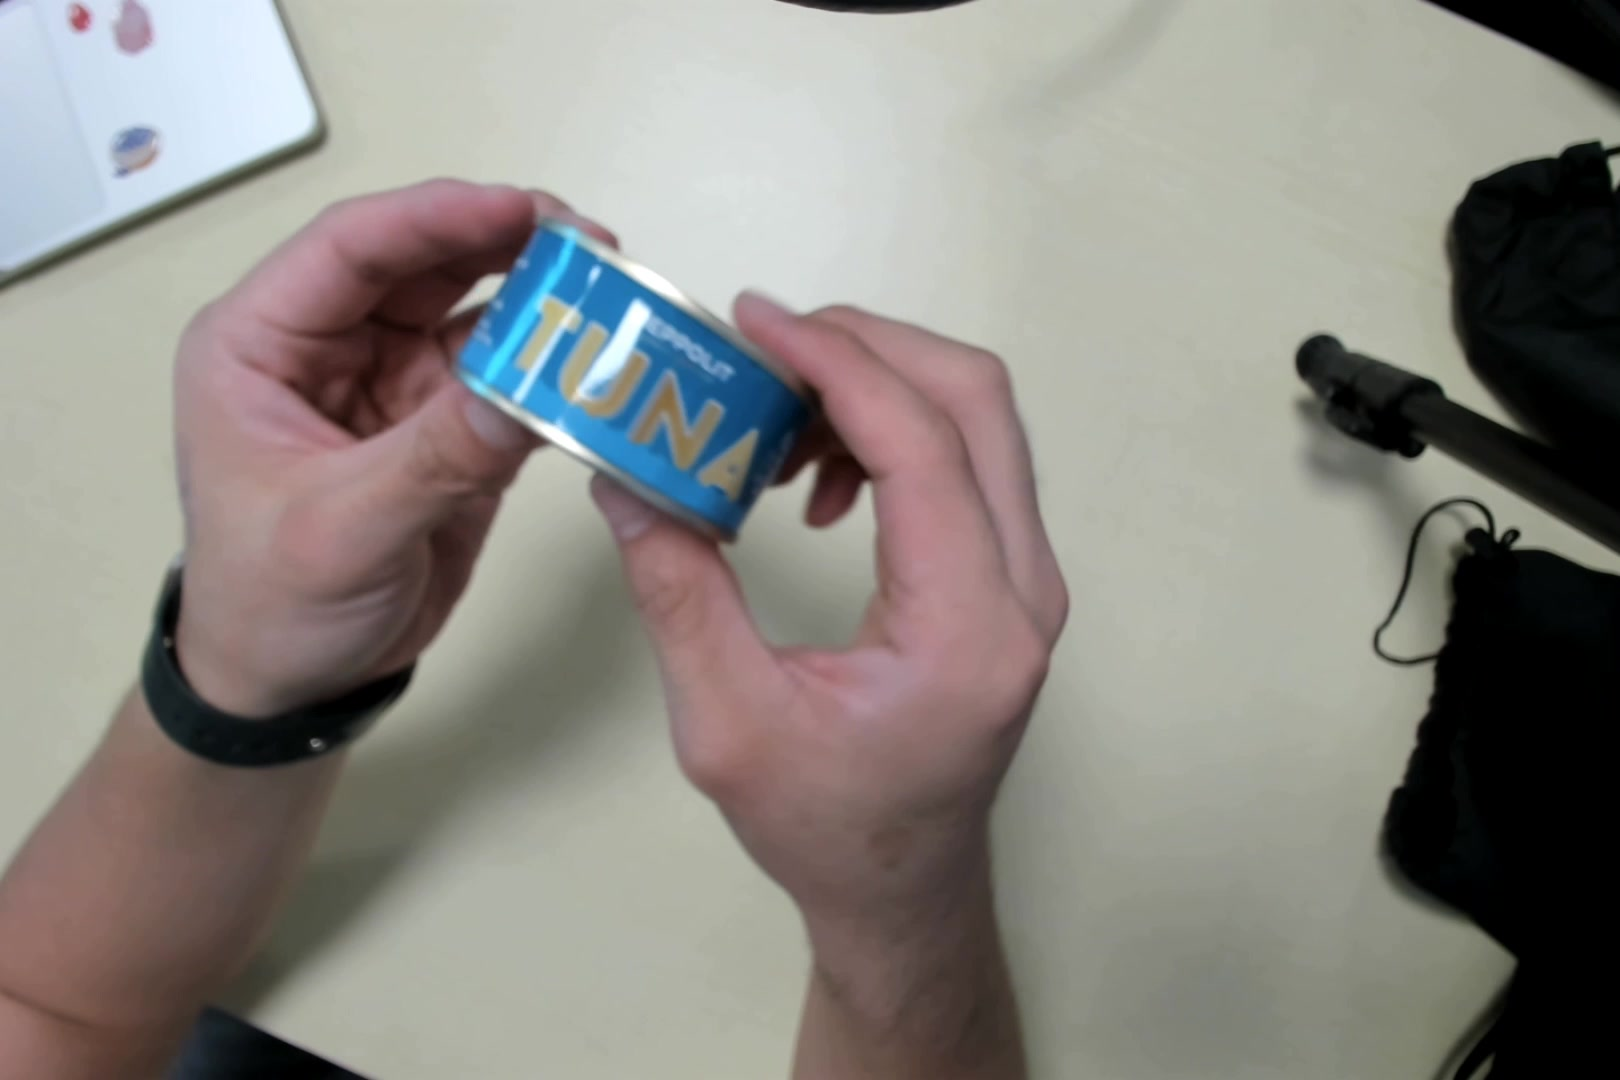CannedTunaDace_0-99g_NonHalal_NonHealthy: (454, 217, 822, 559)
